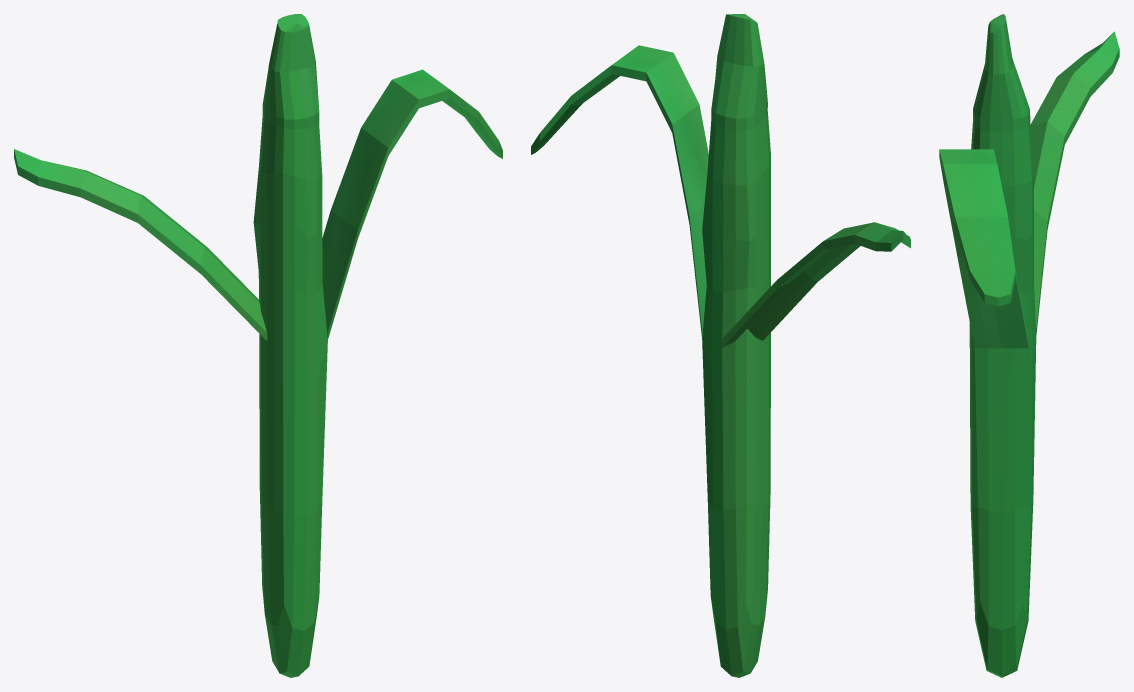
Rendered from SM_Crop_Wheat_Stage_Growing.fbx.
3 renders of one model, left to right at view 1: azimuth 30°, elevation 25°; view 2: azimuth 150°, elevation 25°; view 3: azimuth 270°, elevation 25°, orthographic.
Visible parts, largest first — view 1: SM_Crop_Wheat_ST2; view 2: SM_Crop_Wheat_ST2; view 3: SM_Crop_Wheat_ST2.
Boxes of the visible parts, box(x1,y1,x2,y2) form: SM_Crop_Wheat_ST2: box(14, 14, 502, 677); SM_Crop_Wheat_ST2: box(531, 14, 910, 677); SM_Crop_Wheat_ST2: box(939, 14, 1119, 677).
Size of the model in its own units: 65.65 by 97.11 by 24.05.
1 material, 1 textured.
